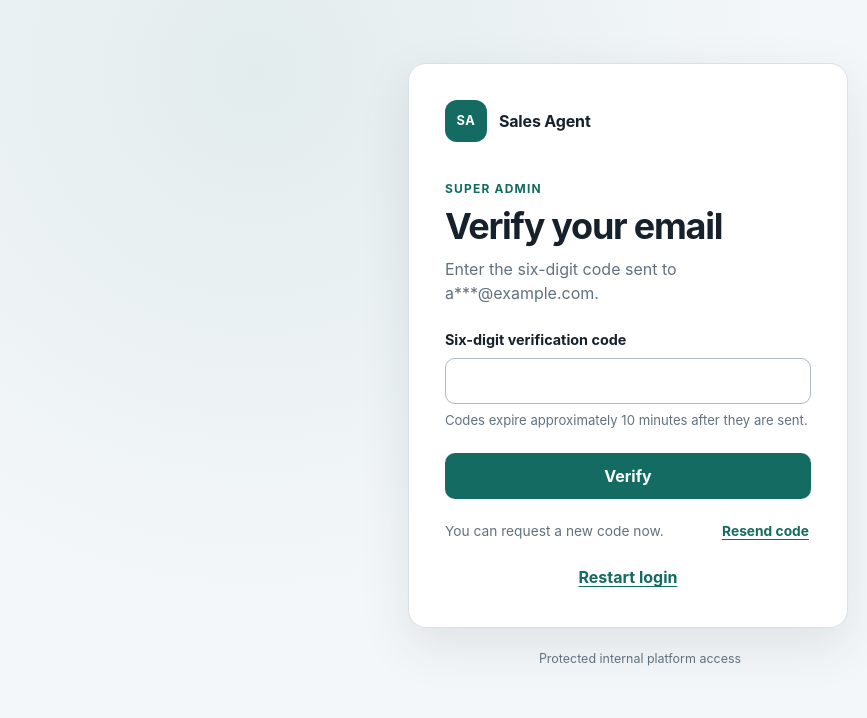
Test case: Super Admin OTP verification › handles an authoritative resend-too-early response
Click the button "Resend code" at (766, 531), box x1=720 y1=519 x2=811 y2=543
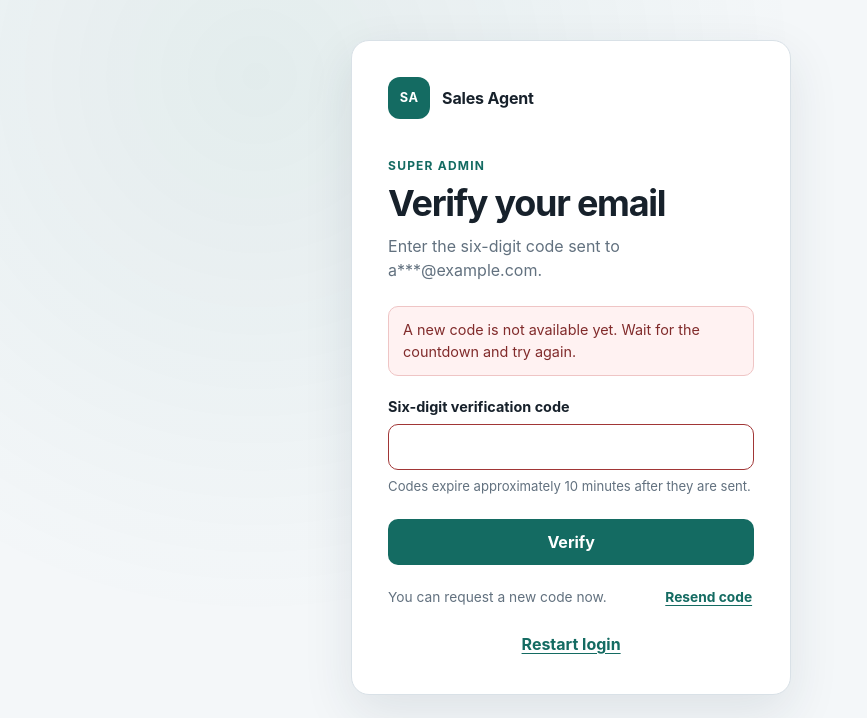
Expected: the message reads "A new code is not available yet. Wait for the countdown and try again.", x1=403 y1=321 x2=700 y2=360
